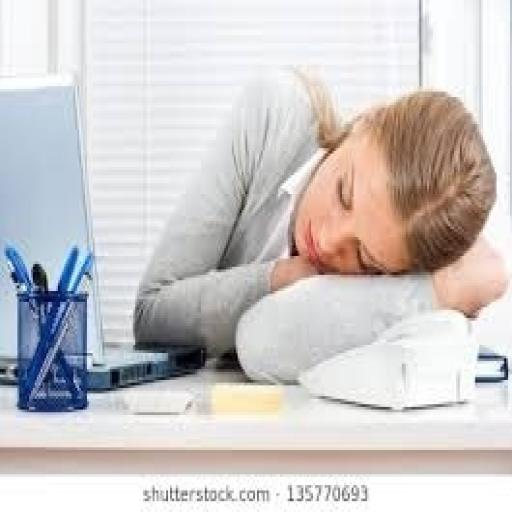sleeping: (130, 62, 510, 372)
